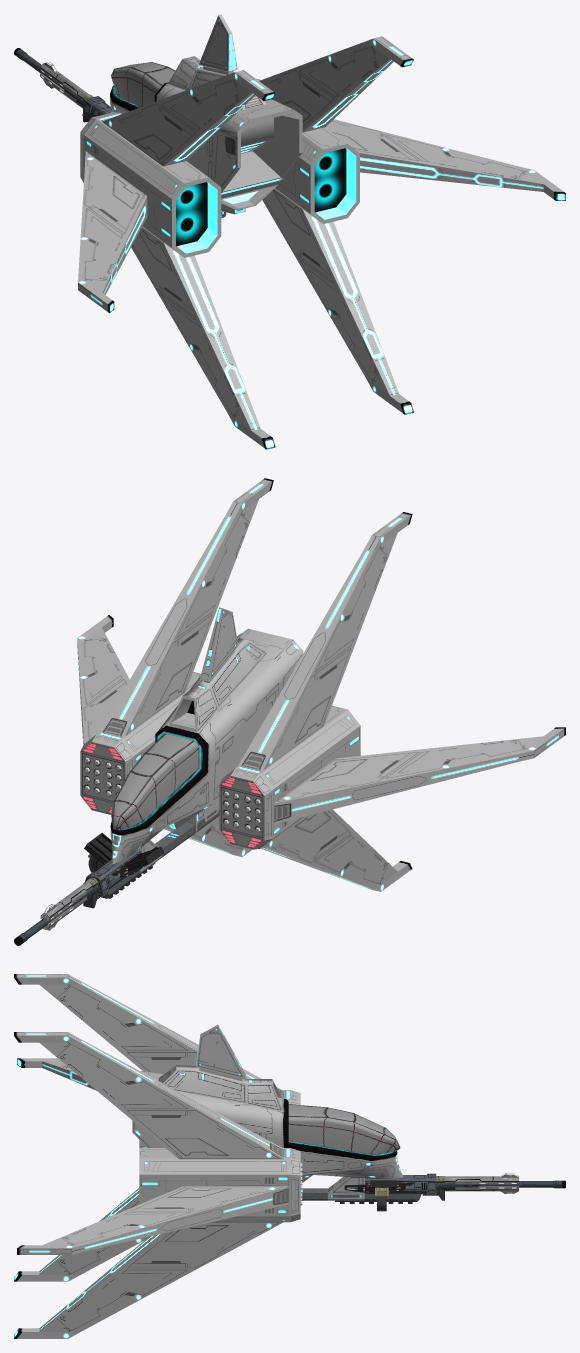
The model's file is MainShipBuild.fbx.
3 renders of one model, top to bottom at view 1: azimuth 30°, elevation 25°; view 2: azimuth 150°, elevation 25°; view 3: azimuth 270°, elevation 25°, orthographic. The views are drawn at different scales.
Parts seen in each view (by area): view 1: Thruster, SidewingUpper4, ShipMainBody, SidewingUpper1, SidewingUpper, SidewingUpper5, SidewingUpper2, SidewingUpper3, Thruster1, VentWing, Glass2, RailGun; view 2: SidewingUpper, SidewingUpper3, ShipMainBody, SidewingUpper2, Thruster, SidewingUpper1, VentWing, Glass2, Thruster1, SidewingUpper5, WeaponsRail, RailGun (+3 smaller); view 3: SidewingUpper3, SidewingUpper4, SidewingUpper5, SidewingUpper, Thruster1, ShipMainBody, VentWing, Glass2, SidewingUpper1, RailGun, WeaponsRail, CannonMainBody (+2 smaller).
Boxes of the visible parts, x1,y1,x2,y2 form: Thruster: (80, 112, 221, 257); SidewingUpper4: (262, 189, 413, 414); ShipMainBody: (110, 82, 302, 210); SidewingUpper1: (131, 227, 275, 449); SidewingUpper: (102, 70, 275, 166); SidewingUpper5: (325, 119, 565, 200); SidewingUpper2: (78, 151, 147, 313); SidewingUpper3: (259, 36, 413, 132); Thruster1: (256, 78, 359, 223); VentWing: (168, 14, 266, 110); Glass2: (111, 62, 175, 106); RailGun: (40, 62, 102, 115); SidewingUpper: (238, 512, 412, 770); SidewingUpper3: (99, 478, 273, 736); ShipMainBody: (110, 628, 303, 863); SidewingUpper2: (274, 727, 565, 824); Thruster: (219, 705, 360, 849); SidewingUpper1: (261, 809, 412, 891); VentWing: (169, 607, 267, 732); Glass2: (111, 733, 198, 830); Thruster1: (80, 672, 200, 814); SidewingUpper5: (77, 615, 129, 744); WeaponsRail: (102, 799, 219, 897); RailGun: (40, 846, 157, 930); SidewingUpper3: (14, 1032, 284, 1159); SidewingUpper4: (14, 1222, 283, 1338); SidewingUpper5: (17, 1186, 288, 1254); SidewingUpper: (14, 974, 283, 1098); Thruster1: (139, 1148, 300, 1222); ShipMainBody: (132, 1071, 403, 1182); VentWing: (158, 1025, 282, 1110); Glass2: (288, 1104, 400, 1154); SidewingUpper1: (14, 1188, 147, 1281); RailGun: (344, 1173, 518, 1194); WeaponsRail: (302, 1176, 421, 1200); CannonMainBody: (365, 1173, 436, 1194).
Size of the model in its own units: 1.21 by 0.8962 by 1.48.
